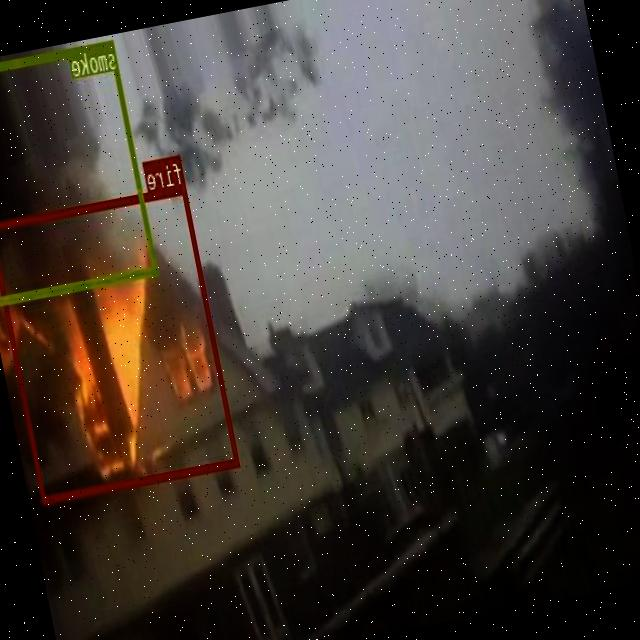fire: (0, 183, 240, 502)
smoke: (0, 38, 159, 304)
